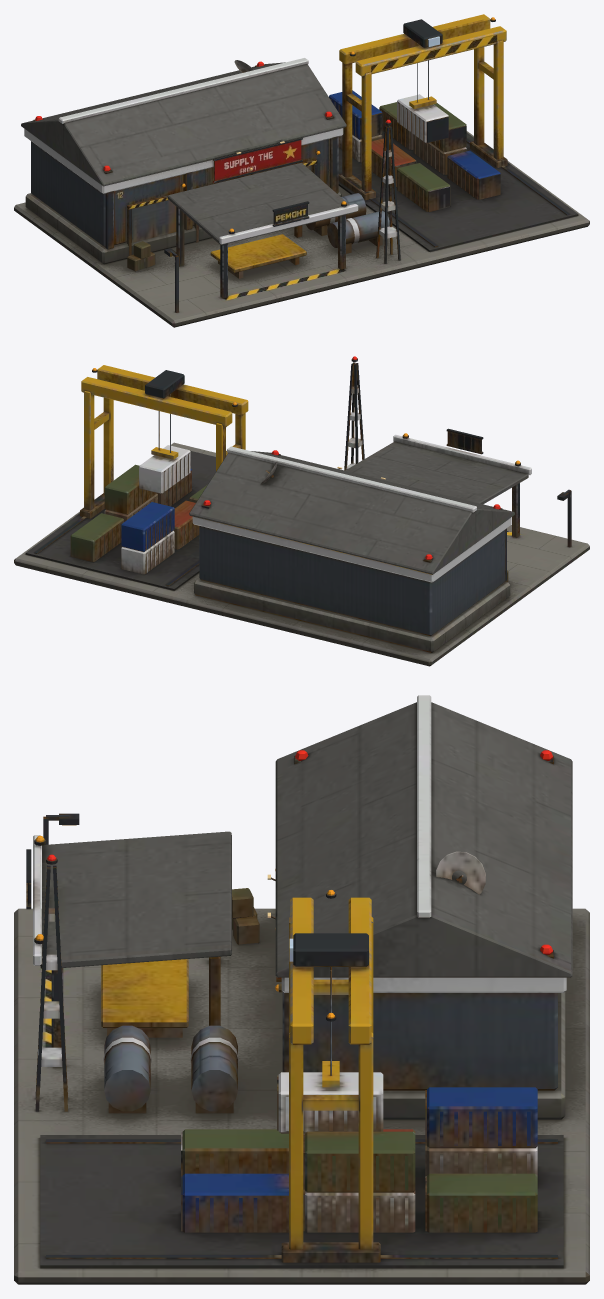
The model's file is lgst.soviet.glb.
3 renders of one model, top to bottom at view 1: azimuth 30°, elevation 25°; view 2: azimuth 150°, elevation 25°; view 3: azimuth 270°, elevation 25°, orthographic. The views are drawn at different scales.
Visible parts, largest first — view 1: root_mesh, gantry_mesh, trolley_mesh; view 2: root_mesh, gantry_mesh, trolley_mesh; view 3: root_mesh, gantry_mesh, trolley_mesh.
Part boxes in pixels (x1,y1,x2,y2): root_mesh: (14, 58, 589, 327); gantry_mesh: (338, 14, 507, 200); trolley_mesh: (397, 19, 448, 143); root_mesh: (14, 356, 589, 666); gantry_mesh: (80, 365, 248, 518); trolley_mesh: (139, 370, 190, 493); root_mesh: (14, 695, 589, 1284); gantry_mesh: (281, 890, 380, 1262); trolley_mesh: (277, 933, 383, 1133).
Bounding box in the file's own units: 2.98 × 1.05 × 1.98.
Materials: 1 (1 with a texture image).
